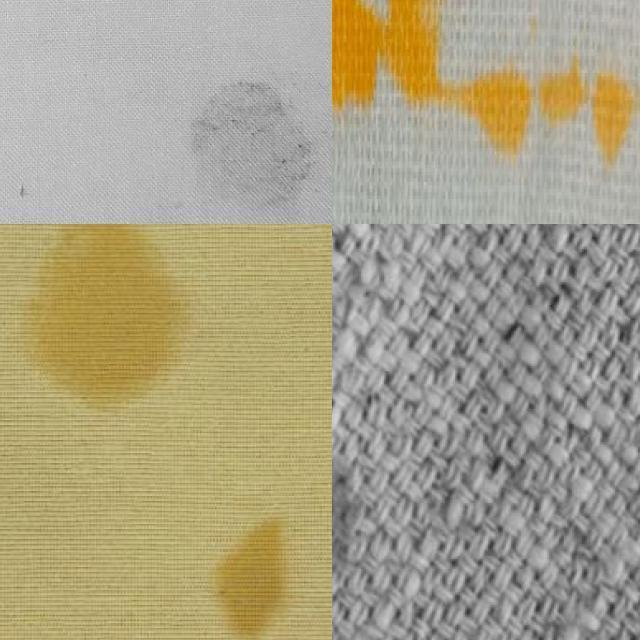Hole: (332, 0, 640, 199), (0, 224, 233, 422), (157, 469, 332, 640), (154, 56, 328, 224)
